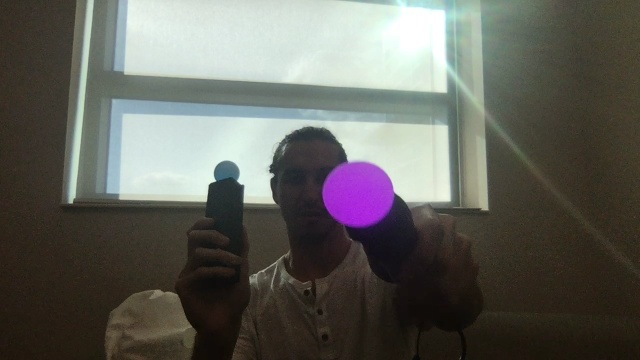wand: (321, 161, 394, 227), (214, 160, 241, 183)
